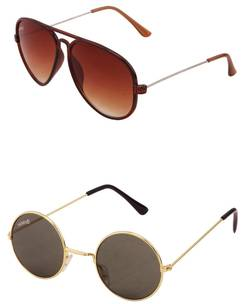sunglasses: (5, 181, 239, 302), (7, 9, 239, 110)
